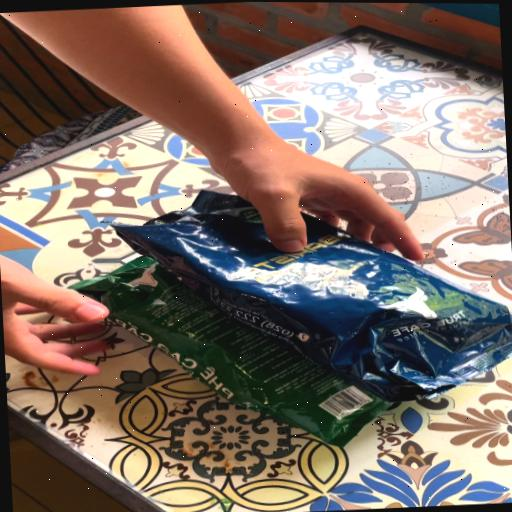cafe_hat: (115, 191, 512, 403)
cafe_xay: (71, 256, 390, 447)
